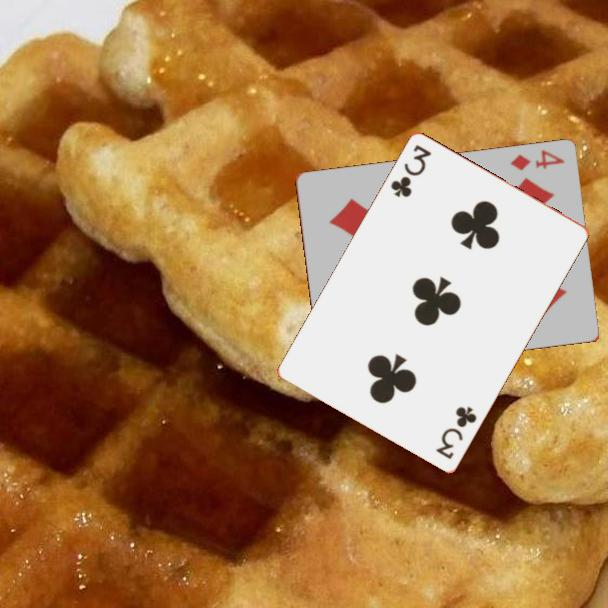c03: (432, 403, 480, 463), (387, 141, 434, 201)
d04: (507, 147, 567, 173)
